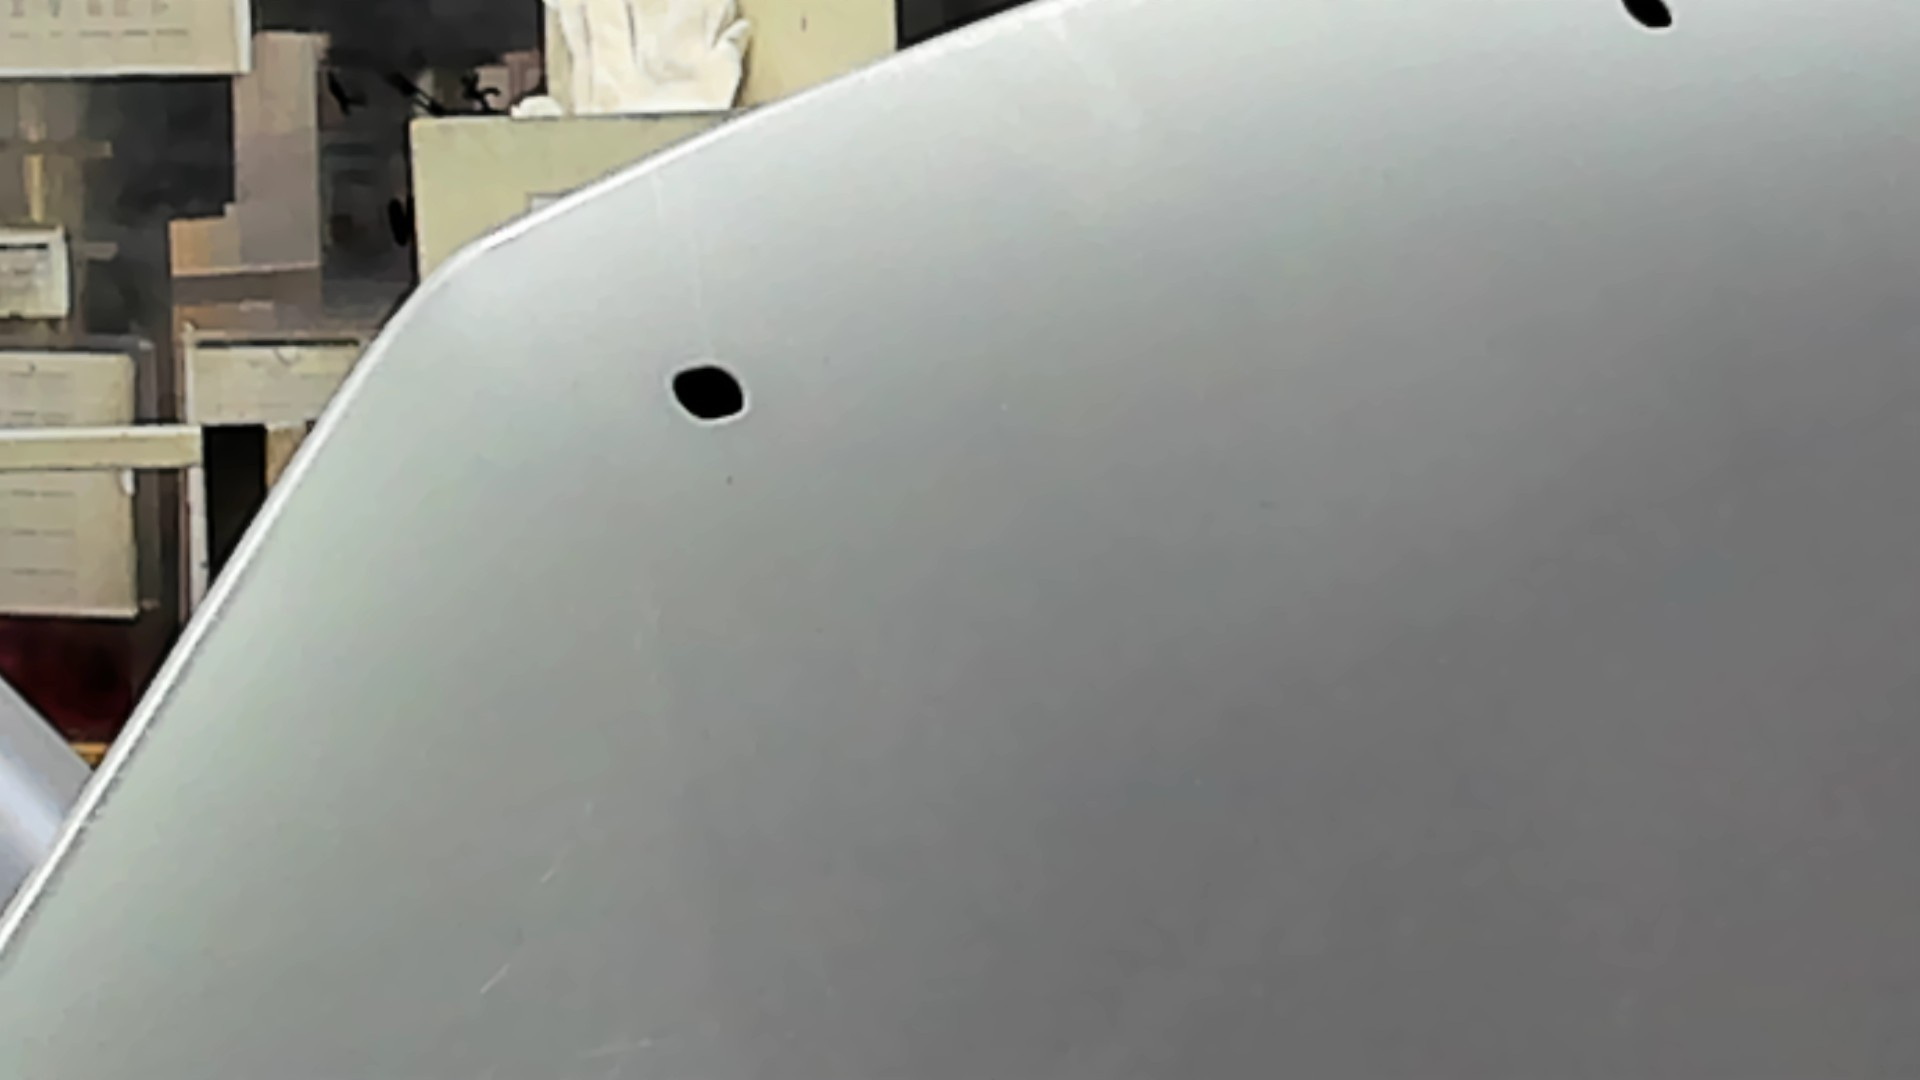amorfo: (666, 363, 756, 429), (1619, 1, 1677, 36)
